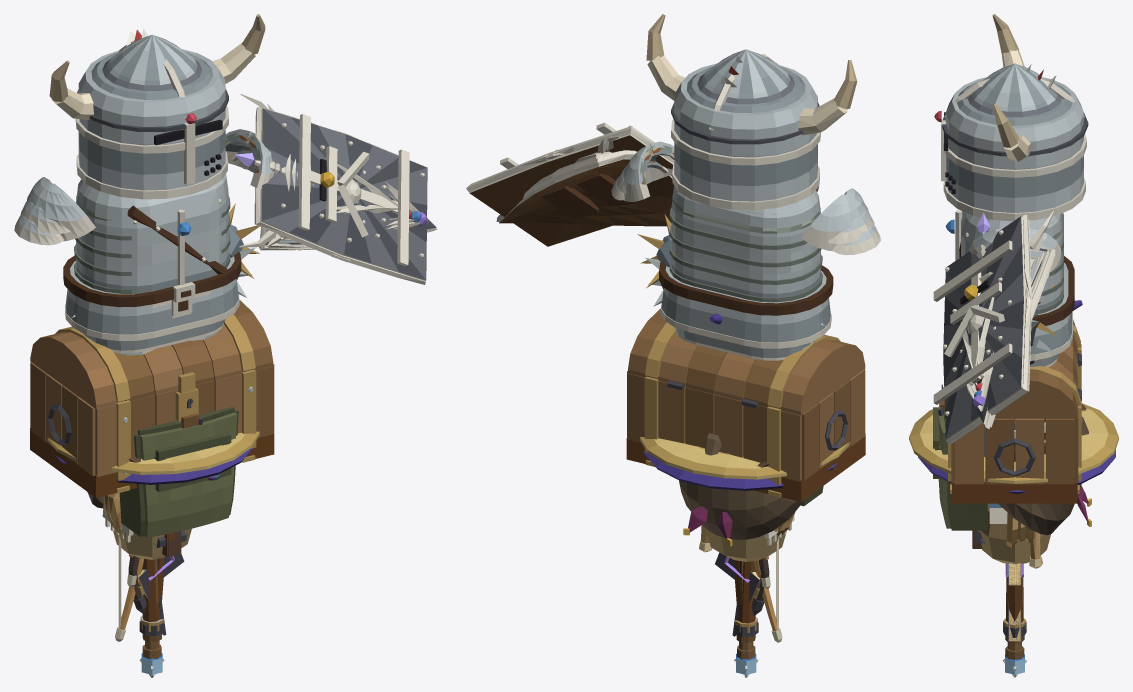
File: items.glb
The picture shows the model from 3 angles, left to right: view 1: azimuth 30°, elevation 25°; view 2: azimuth 150°, elevation 25°; view 3: azimuth 270°, elevation 25°; orthographic projection. The views are drawn at different scales.
Visible parts, largest first — view 1: armor_shield_tower, armor_head_great, treasure_chest, treasure_chest_lid, armor_body_plate, wear_welding_mask, armor_body_plate_belt, armor_head_horned, armor_body_plate_pauldron_R, armor_head_nasal, wear_straw_hat, armor_shield_aegis (+14 smaller); view 2: treasure_chest, armor_head_great, treasure_chest_lid, armor_body_plate, armor_body_plate_belt, armor_shield_aegis, armor_shield_tower, wear_hood, armor_body_scale, armor_head_horned, armor_body_plate_pauldron_R, wear_straw_hat (+12 smaller); view 3: armor_head_great, armor_shield_tower, treasure_chest, treasure_chest_lid, wear_straw_hat, armor_head_horned, armor_head_nasal, armor_shield_aegis, armor_body_plate, armor_body_plate_belt, wear_welding_mask, wear_hood (+14 smaller).
Boxes of the visible parts, x1,y1,x2,y2 form: armor_shield_tower: (254, 107, 427, 284); armor_head_great: (75, 28, 228, 199); treasure_chest: (30, 362, 274, 497); treasure_chest_lid: (30, 300, 273, 409); armor_body_plate: (76, 174, 228, 308); wear_welding_mask: (119, 407, 238, 537); armor_body_plate_belt: (63, 252, 241, 341); armor_head_horned: (49, 14, 265, 119); armor_body_plate_pauldron_R: (14, 177, 95, 245); armor_head_nasal: (107, 34, 197, 85); wear_straw_hat: (47, 431, 259, 474); armor_shield_aegis: (235, 94, 437, 250); treasure_chest: (626, 369, 865, 501); armor_head_great: (671, 56, 820, 210); treasure_chest_lid: (628, 309, 865, 415); armor_body_plate: (671, 185, 820, 297); armor_body_plate_belt: (659, 261, 833, 348); armor_shield_aegis: (496, 136, 674, 226); armor_shield_tower: (466, 122, 674, 246); wear_hood: (679, 432, 804, 539); armor_body_scale: (669, 194, 822, 302); armor_head_horned: (646, 14, 857, 135); armor_body_plate_pauldron_R: (801, 188, 880, 255); wear_straw_hat: (640, 437, 850, 479); armor_head_great: (934, 64, 1086, 221); armor_shield_tower: (933, 214, 1031, 444); treasure_chest: (941, 344, 1081, 503); treasure_chest_lid: (994, 319, 1080, 418); wear_straw_hat: (909, 403, 1118, 483); armor_head_horned: (945, 14, 1084, 161); armor_head_nasal: (972, 63, 1057, 111); armor_shield_aegis: (960, 210, 1055, 429); armor_body_plate: (945, 210, 1062, 308); armor_body_plate_belt: (1030, 256, 1074, 360); wear_welding_mask: (933, 403, 987, 530); wear_hood: (998, 416, 1088, 535).
Bounding box in the file's own units: 2.18 × 3.26 × 1.
